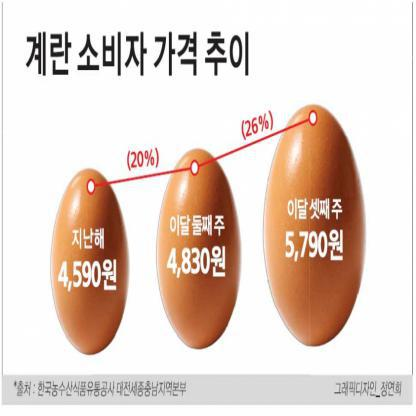egg: (259, 95, 378, 355), (154, 134, 252, 360), (47, 152, 139, 375)
